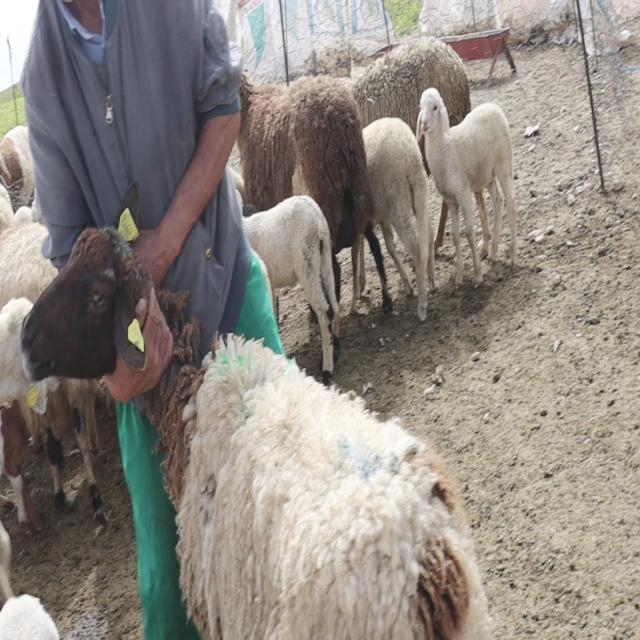Score_1: (20, 181, 489, 639)
